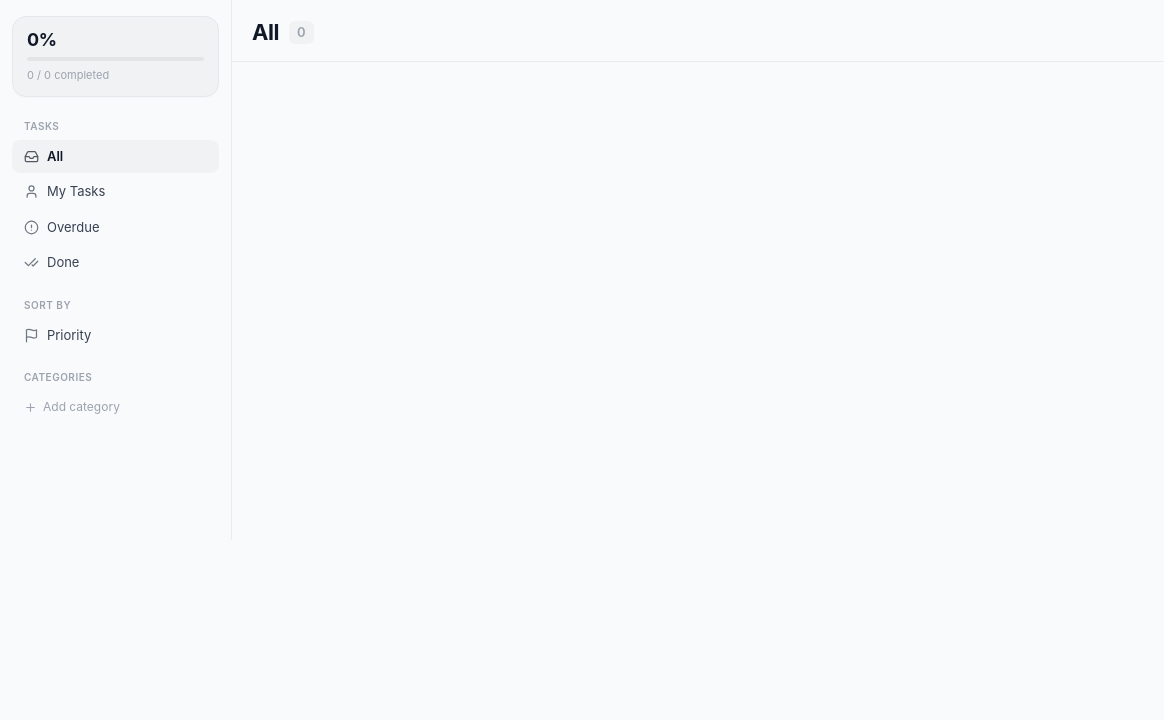
Test: TodoListPanel › FE-COMP-TODO-025: New category input appears when clicking "Add category" button
Click the button "Add category" at (116, 407), box left=12, top=391, right=219, bottom=423
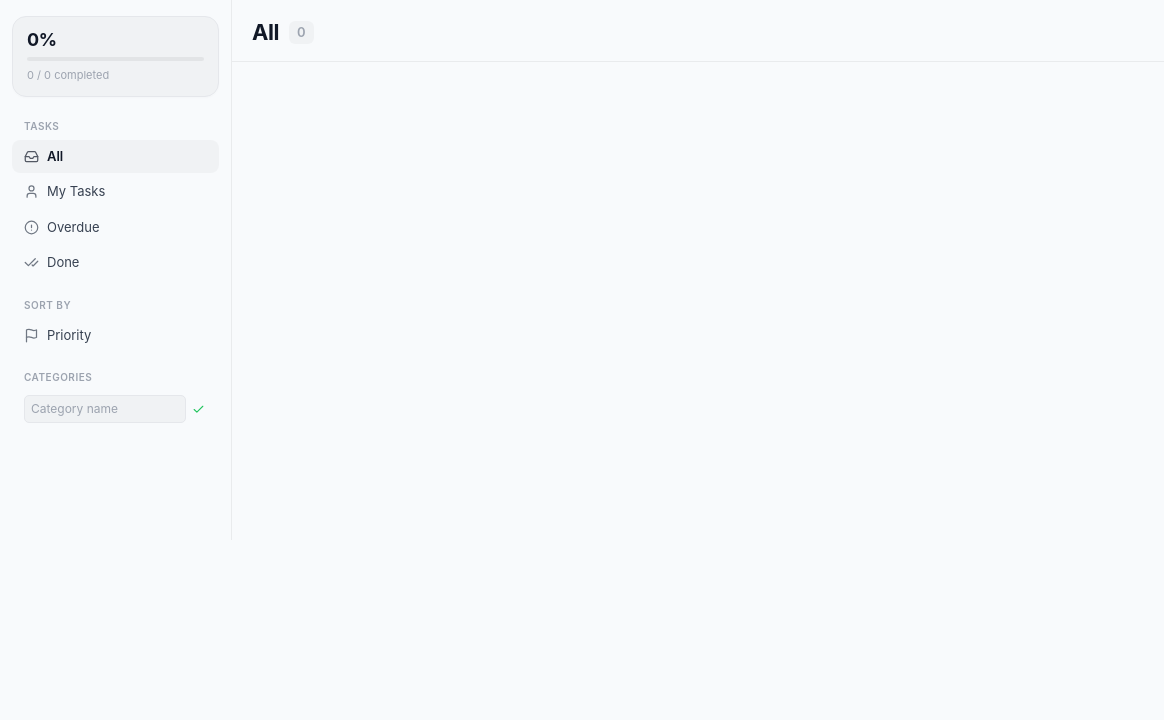
expect the field with placeholder "Category name" is shown: met, box left=24, top=395, right=186, bottom=423
